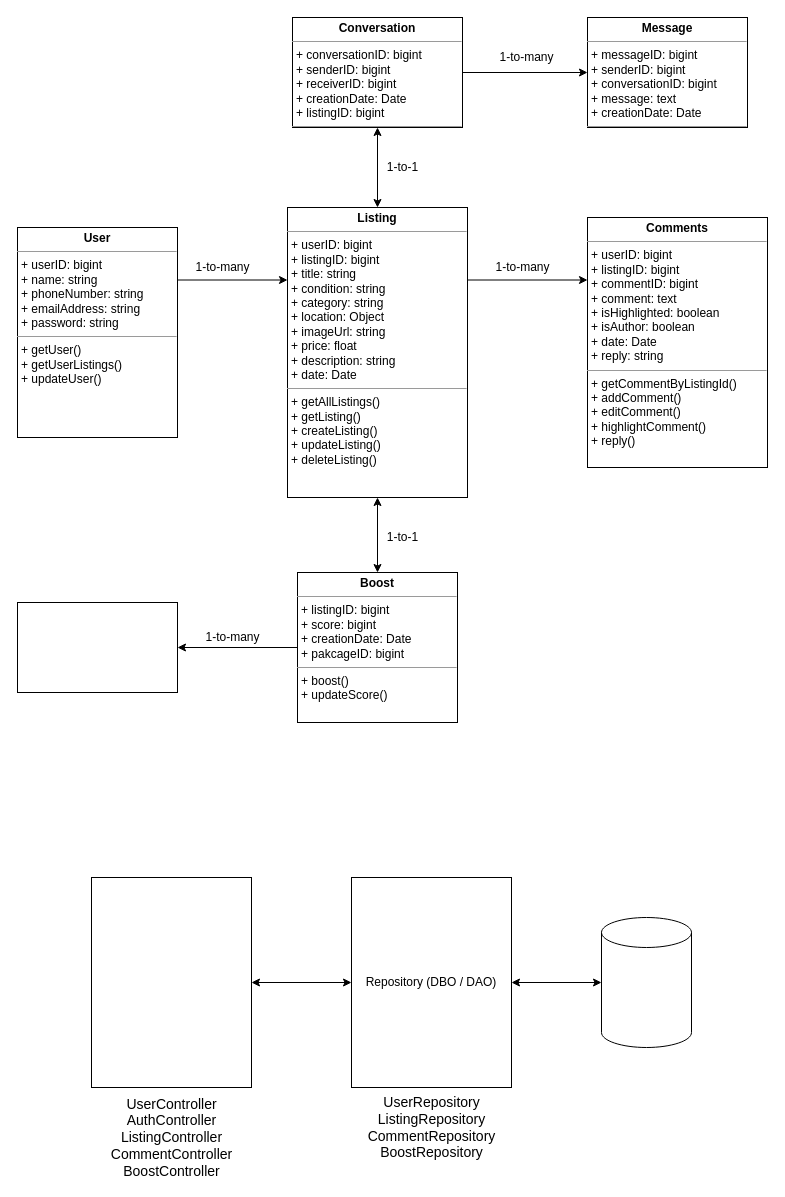
The diagram is 785 pixels wide and 1197 high, and some of its shapes have lost their labels. Here are the shapes that lost their labels. From the top down, the centre of each, then its label:
At (97,647): "BoostPackage + packageID: int + name: string + duration: int + price: double".
At (171,982): "Controller (DTO)".
At (646,982): "Azure SQL".
